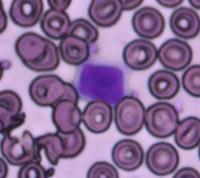L: (72, 57, 131, 106)
